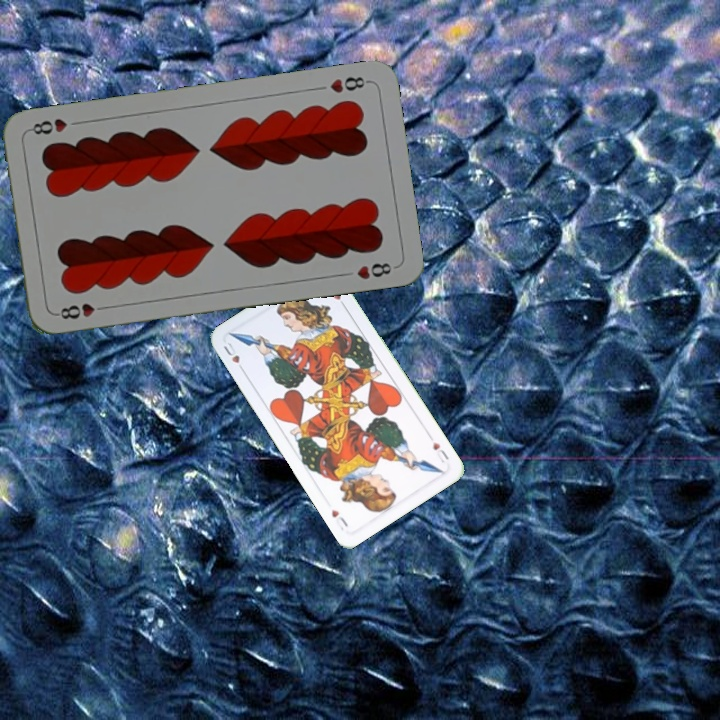H8: (52, 299, 111, 322), (326, 72, 372, 96)
HU: (219, 337, 247, 375), (425, 431, 451, 466)
